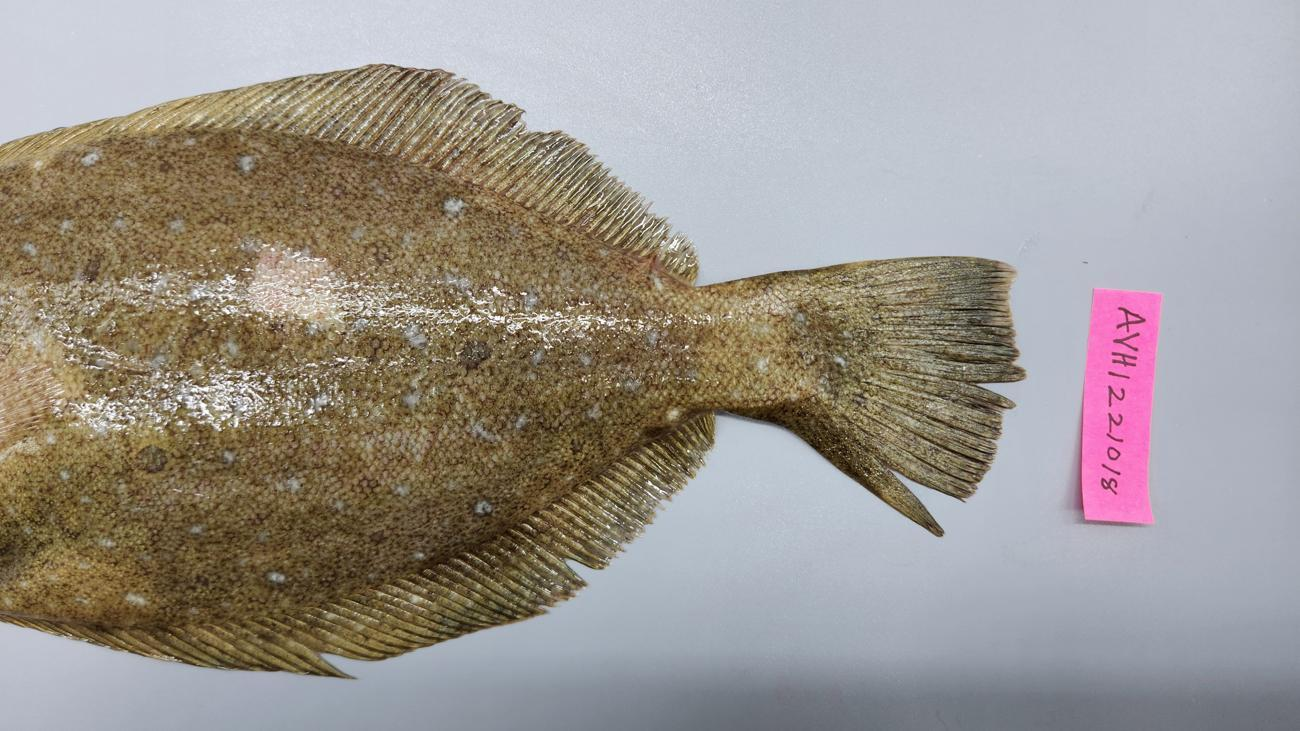VIDYH: (101, 135, 741, 299), (13, 449, 218, 626), (270, 400, 454, 506), (790, 296, 841, 337)
VIDYU: (242, 243, 354, 345)
